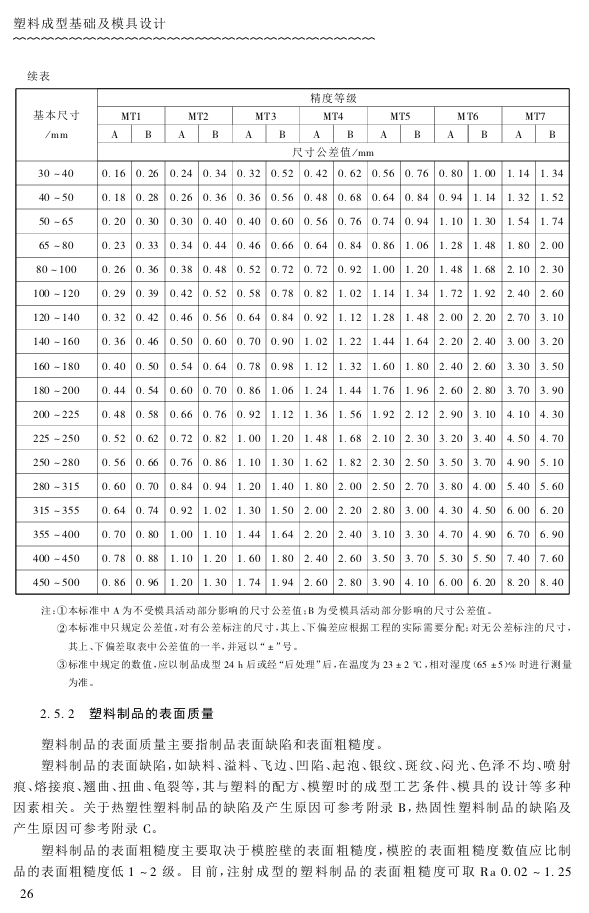table: (15, 88, 569, 595)
